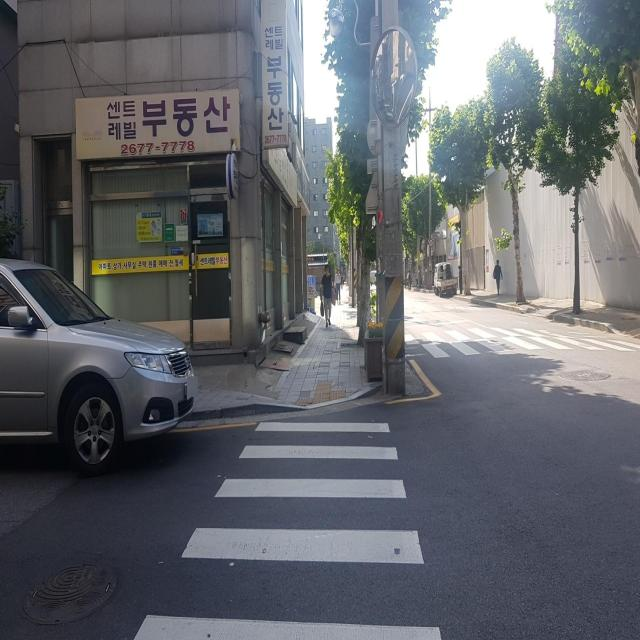횡단보도: (127, 417, 444, 640), (407, 324, 640, 356)
